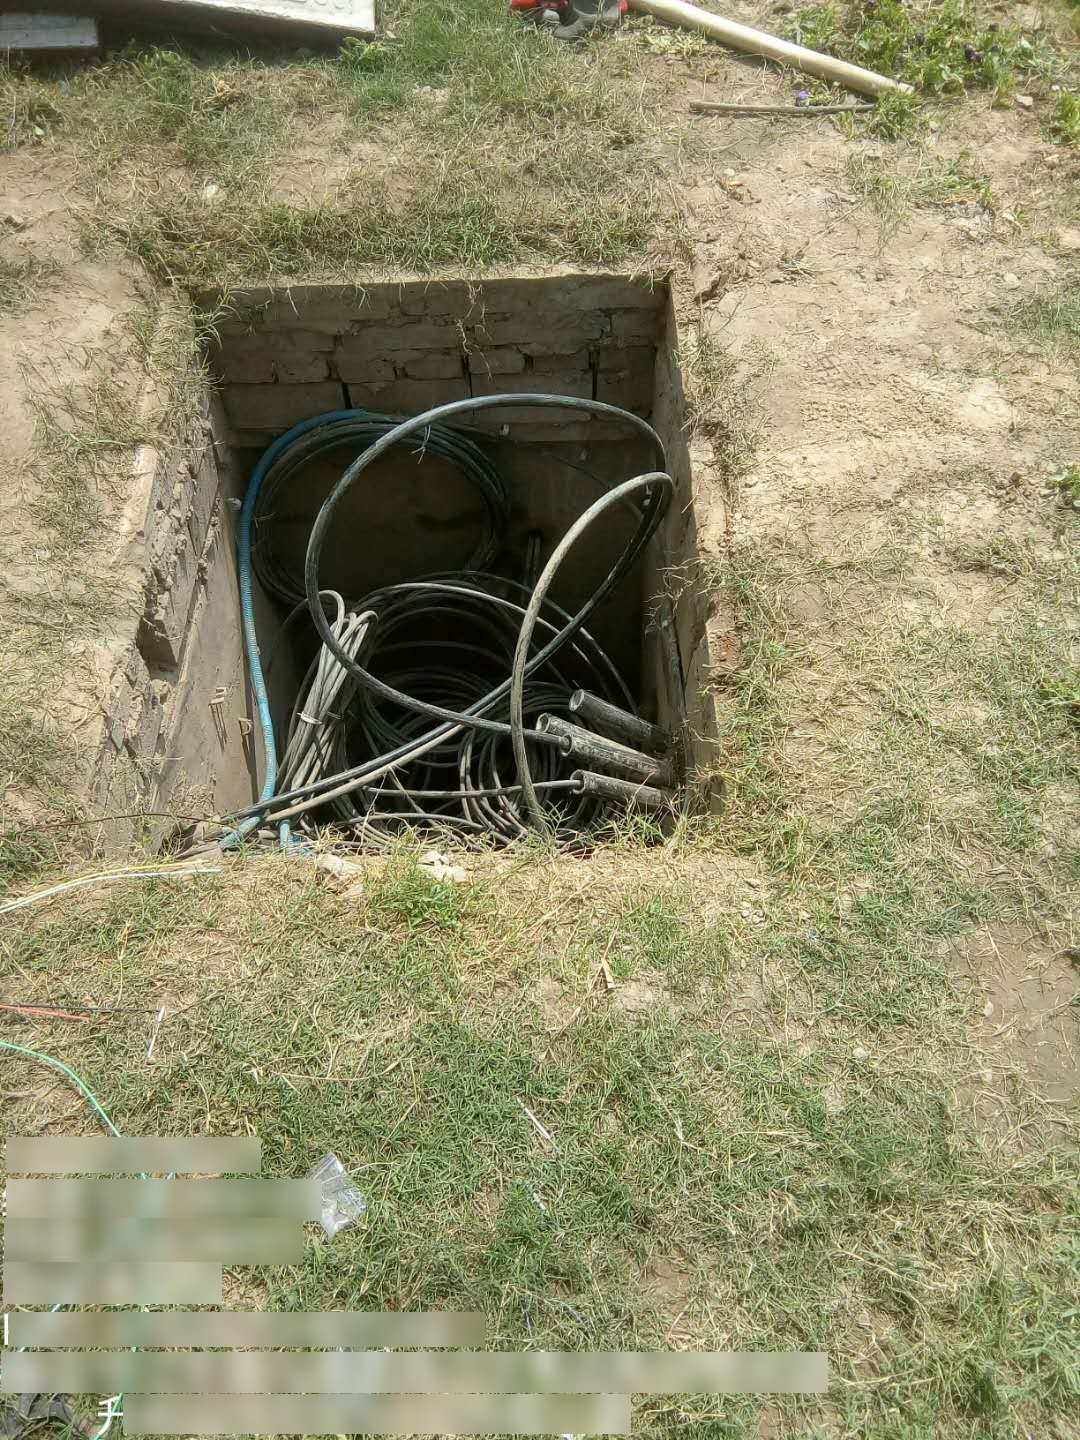lose: (78, 249, 750, 866)
